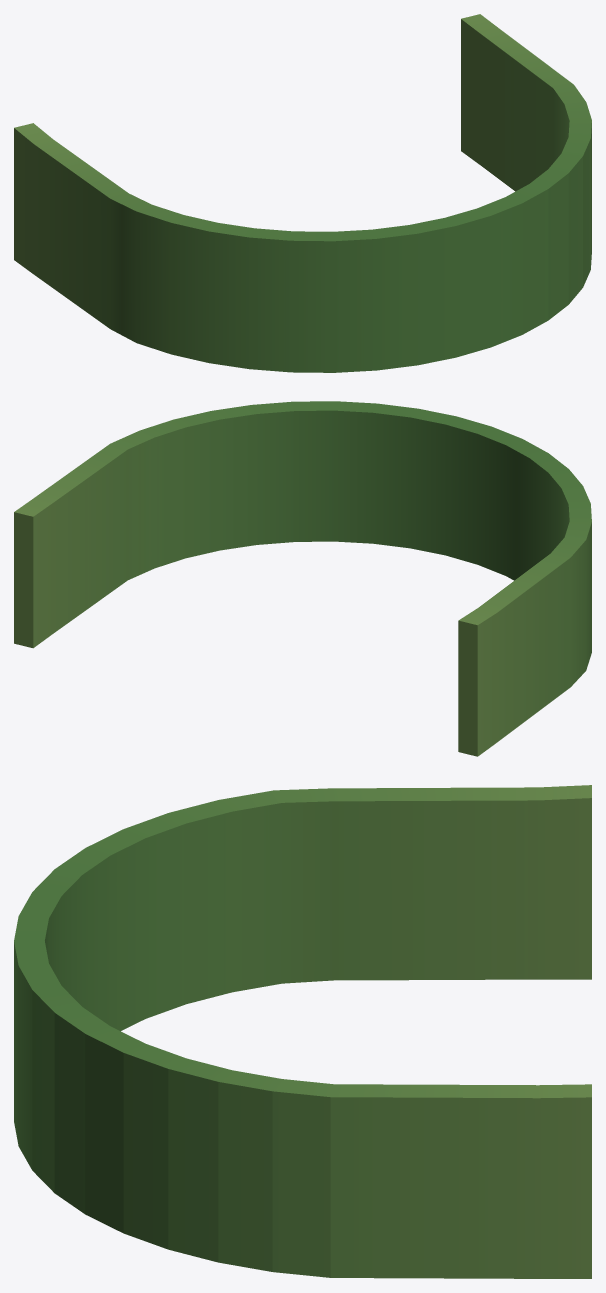
The model's file is Ucollider.fbx.
3 renders of one model, top to bottom at view 1: azimuth 30°, elevation 25°; view 2: azimuth 150°, elevation 25°; view 3: azimuth 270°, elevation 25°, orthographic. The views are drawn at different scales.
Visible parts, largest first — view 1: UCollider; view 2: UCollider; view 3: UCollider.
Boxes of the visible parts, left/top/right/bottom form: UCollider: left=14, top=14, right=591, bottom=372; UCollider: left=14, top=401, right=591, bottom=756; UCollider: left=14, top=785, right=591, bottom=1278.
Size of the model in its own units: 1200 by 325 by 938.
